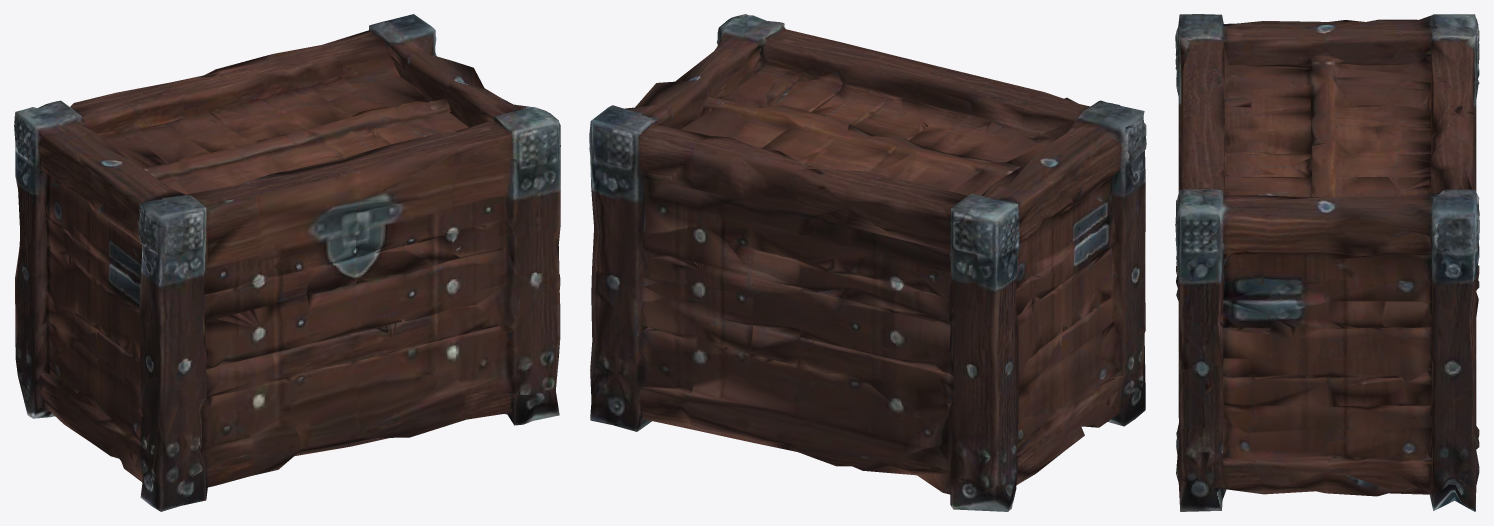
Rendered from supply_crate.glb.
3 views of the same model, side by side, from view 1: azimuth 30°, elevation 25°; view 2: azimuth 150°, elevation 25°; view 3: azimuth 270°, elevation 25° (orthographic).
Bounding box in the file's own units: 1.9 × 1.33 × 1.21.
Materials: 1 (1 with a texture image).
